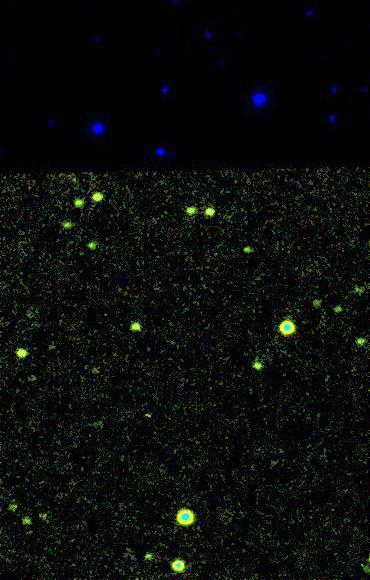star: (131, 400, 161, 430)
